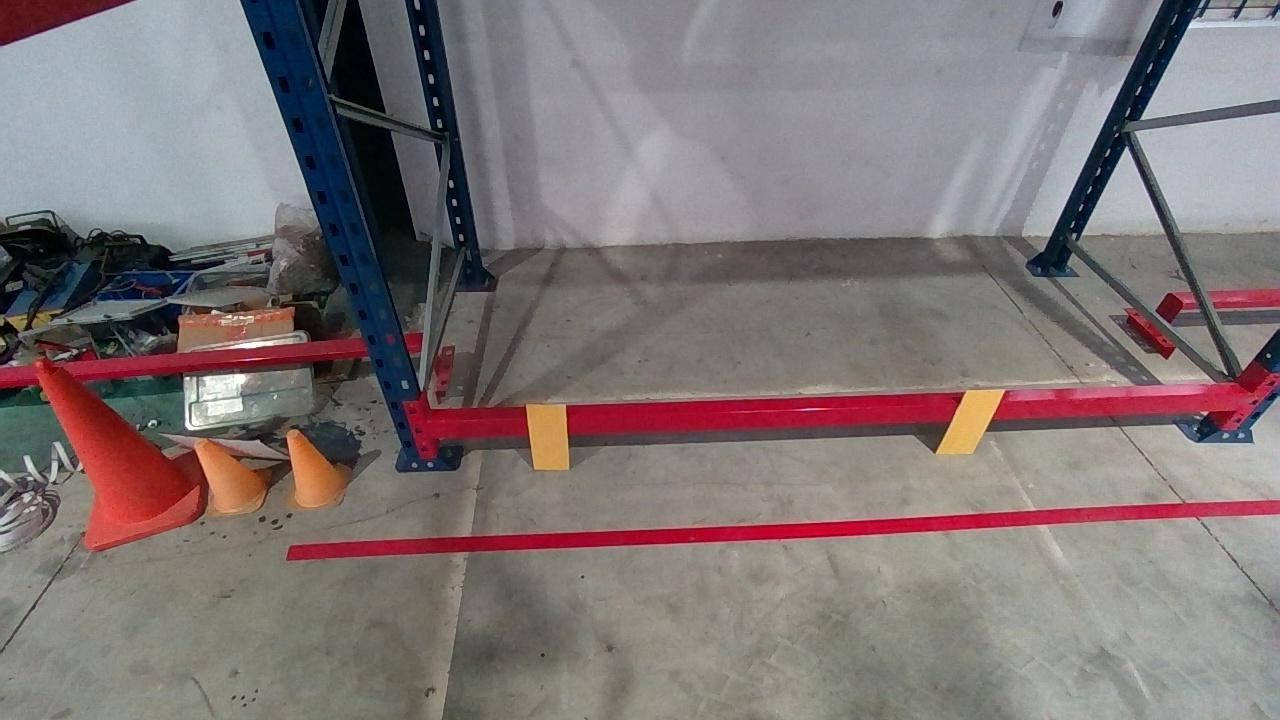h_rack: (432, 391, 1247, 436)
orange_strip: (937, 388, 1008, 455), (525, 403, 568, 469)
red_line: (282, 497, 1271, 559)
